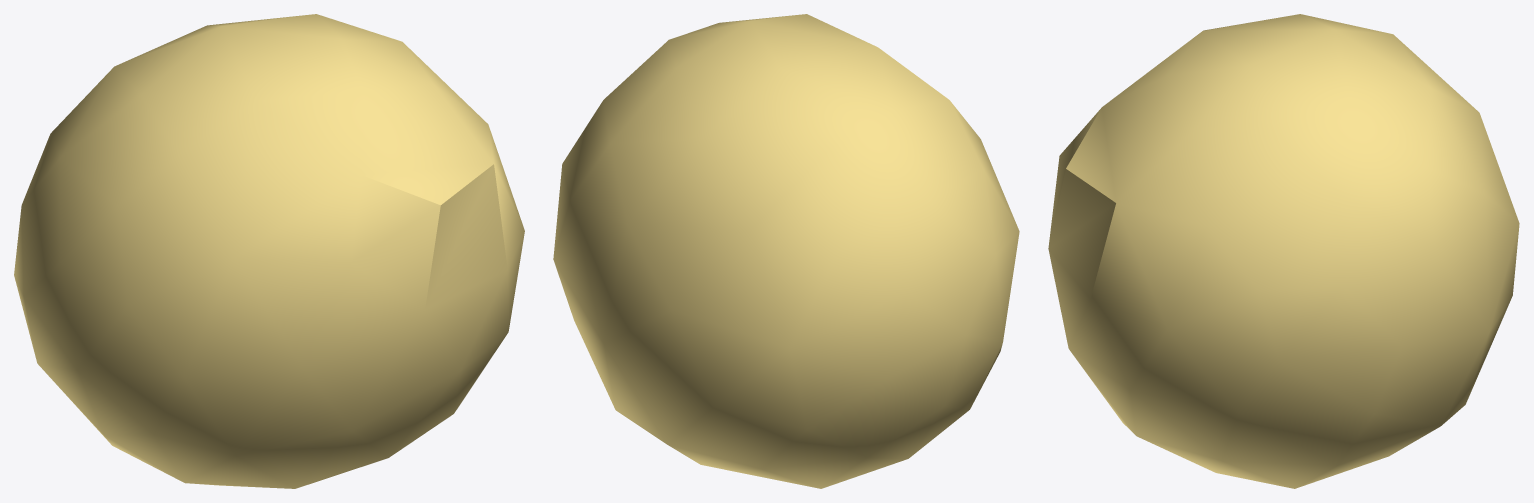
File: fma73594_mm2662m.glb
3 renders of one model, left to right at view 1: azimuth 30°, elevation 25°; view 2: azimuth 150°, elevation 25°; view 3: azimuth 270°, elevation 25°, orthographic. The views are drawn at different scales.
Visible parts, largest first — view 1: FMA73594_MM2662M; view 2: FMA73594_MM2662M; view 3: FMA73594_MM2662M.
Part boxes in pixels (left/top/right/bottom): FMA73594_MM2662M: left=14, top=14, right=524, bottom=488; FMA73594_MM2662M: left=553, top=14, right=1019, bottom=488; FMA73594_MM2662M: left=1048, top=14, right=1519, bottom=488.
Size of the model in its own units: 0.00127 by 0.00121 by 0.00121.
